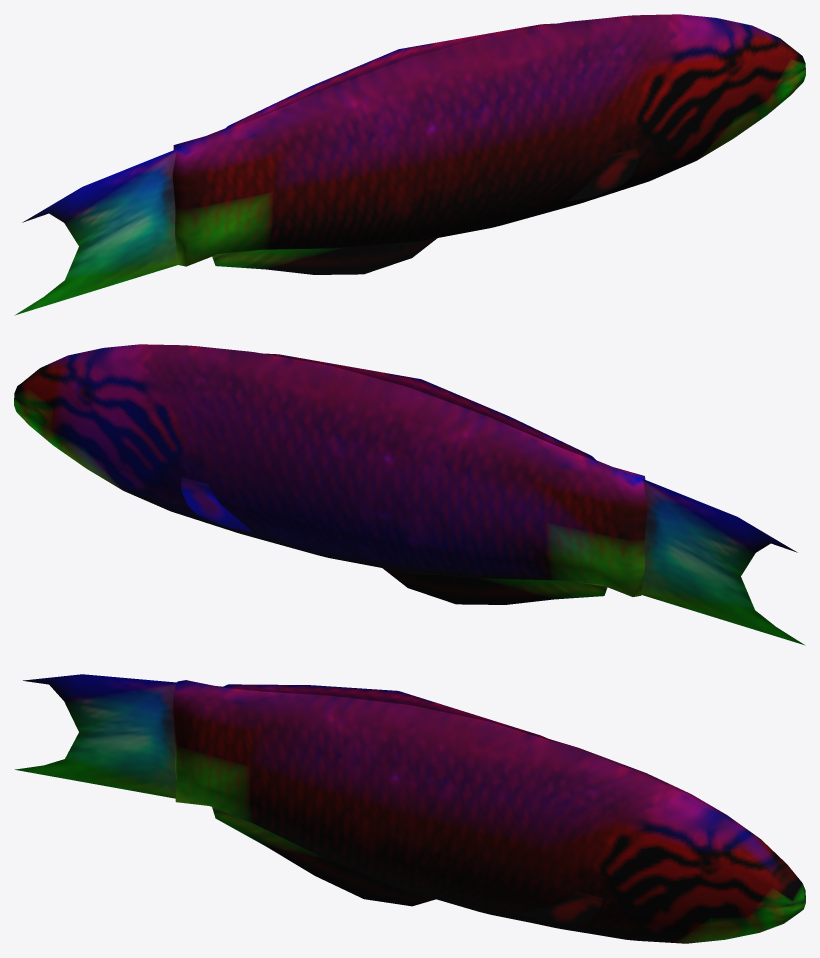
The model's file is moon_wrasse.glb.
3 renders of one model, top to bottom at view 1: azimuth 30°, elevation 25°; view 2: azimuth 150°, elevation 25°; view 3: azimuth 330°, elevation 25°, orthographic.
Parts seen in each view (by area): view 1: MoonWrasse; view 2: MoonWrasse; view 3: MoonWrasse.
Boxes of the visible parts, left/top/right/bottom form: MoonWrasse: left=14, top=14, right=805, bottom=315; MoonWrasse: left=14, top=344, right=805, bottom=645; MoonWrasse: left=15, top=674, right=805, bottom=943.
Size of the model in its own units: 0.9996 by 0.262 by 0.1064.
1 material, 1 textured.
